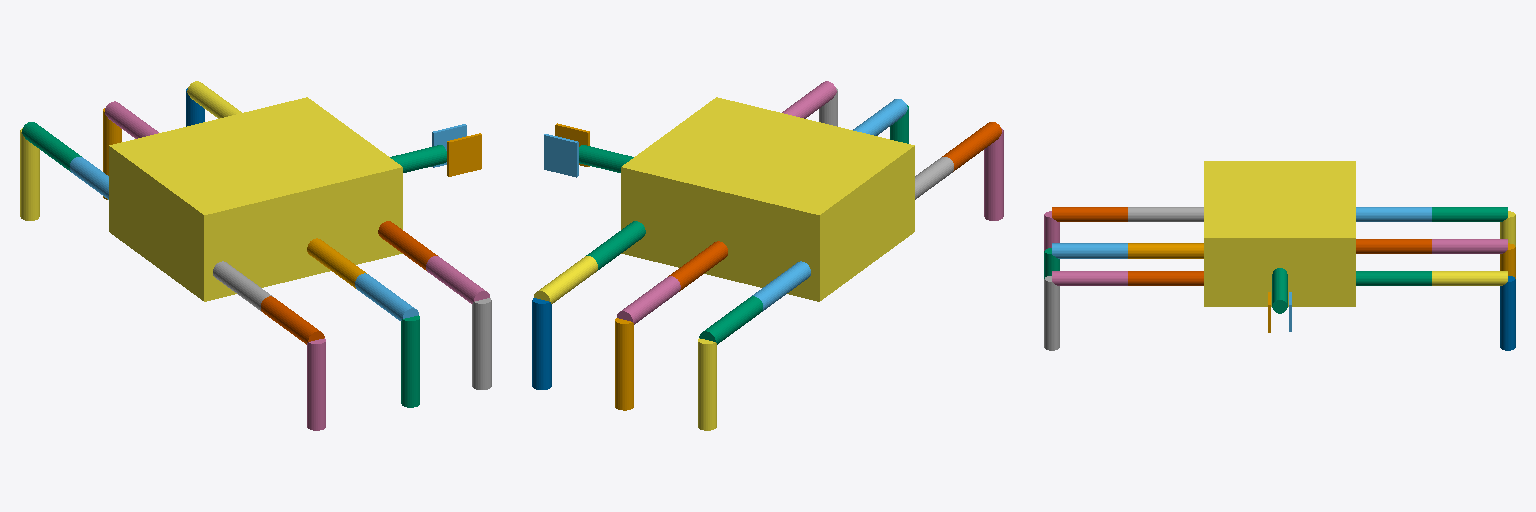
URDF robot description (SimpleWalker):
<?xml version="1.0"?>
<!-- created with Phobos 0.7 -->
  <robot name="SimpleWalker">

    <link name="Gripper1">
      <inertial>
        <origin xyz="0.09 0 0.02" rpy="0 0 0"/>
        <mass value="0.2"/>
        <inertia ixx="0.001" ixy="-0.001" ixz="0" iyy="0.001" iyz="0" izz="0.002"/>
      </inertial>
      <visual name="Cube.002">
        <origin xyz="0.09 0 0.02" rpy="-1.5708 0 0"/>
        <geometry>
          <box size="0.2 0.02 0.2"/>
        </geometry>
      </visual>
      <collision name="Cube.002">
        <origin xyz="0.09 0 0.02" rpy="-1.5708 0 0"/>
        <geometry>
          <box size="0.2 0.02 0.2"/>
        </geometry>
      </collision>
    </link>

    <link name="Gripper2">
      <inertial>
        <origin xyz="0.08 0 0.02" rpy="0 0 0"/>
        <mass value="0.2"/>
        <inertia ixx="0.001" ixy="-0.001" ixz="0" iyy="0.001" iyz="0" izz="0.002"/>
      </inertial>
      <visual name="Cube.001">
        <origin xyz="0.08 0 0.02" rpy="1.5708 0 0"/>
        <geometry>
          <box size="0.2 0.02 0.2"/>
        </geometry>
      </visual>
      <collision name="Cube.001">
        <origin xyz="0.08 0 0.02" rpy="1.5708 0 0"/>
        <geometry>
          <box size="0.2 0.02 0.2"/>
        </geometry>
      </collision>
    </link>

    <link name="GripperBase">
      <inertial>
        <origin xyz="0.28 0 0" rpy="0 0 0"/>
        <mass value="0.2"/>
        <inertia ixx="0.001" ixy="0" ixz="0" iyy="0.001" iyz="0" izz="0.001"/>
      </inertial>
      <visual name="Cylinder.023">
        <origin xyz="0.28 0 0" rpy="-1.5708 0 -1.5708"/>
        <geometry>
          <cylinder radius="0.05" length="0.5"/>
        </geometry>
      </visual>
      <collision name="Cylinder.023">
        <origin xyz="0.28 0 0" rpy="-1.5708 0 -1.5708"/>
        <geometry>
          <box size="0.1 0.1 0.5"/>
        </geometry>
      </collision>
    </link>

    <link name="Link_0">
      <inertial>
        <origin xyz="0 0 0" rpy="0 0 0"/>
        <mass value="1.0"/>
        <inertia ixx="0.10417" ixy="0" ixz="0" iyy="0.14083" iyz="0" izz="0.20333"/>
      </inertial>
      <visual name="Cube">
        <origin xyz="0 0 0" rpy="0 0 0"/>
        <geometry>
          <box size="1.2 1.0 0.5"/>
        </geometry>
      </visual>
      <collision name="Cube">
        <origin xyz="0 0 0" rpy="0 0 0"/>
        <geometry>
          <box size="1.2 1.0 0.5"/>
        </geometry>
      </collision>
    </link>

    <link name="Link_1">
    </link>

    <link name="Link_10">
      <inertial>
        <origin xyz="0 -0.25 0" rpy="0 0 0"/>
        <mass value="1.0"/>
        <inertia ixx="0.00125" ixy="0" ixz="0" iyy="0.02146" iyz="0" izz="0.02146"/>
      </inertial>
      <visual name="Cylinder.010">
        <origin xyz="0 -0.25 0" rpy="1.5708 -1.5708 0"/>
        <geometry>
          <cylinder radius="0.05" length="0.5"/>
        </geometry>
      </visual>
      <collision name="Cylinder">
        <origin xyz="0 -0.25 0" rpy="1.5708 -1.5708 0"/>
        <geometry>
          <cylinder radius="0.05" length="0.5"/>
        </geometry>
      </collision>
    </link>

    <link name="Link_11">
      <inertial>
        <origin xyz="0 0 0.25" rpy="0 0 0"/>
        <mass value="1.0"/>
        <inertia ixx="0.02146" ixy="0" ixz="0" iyy="0.00125" iyz="0" izz="0.02146"/>
      </inertial>
      <visual name="Cylinder.008">
        <origin xyz="0 0 0.25" rpy="0 0 0"/>
        <geometry>
          <cylinder radius="0.05" length="0.5"/>
        </geometry>
      </visual>
      <collision name="Cylinder.001">
        <origin xyz="0 0 0.25" rpy="0 0 0"/>
        <geometry>
          <cylinder radius="0.05" length="0.5"/>
        </geometry>
      </collision>
    </link>

    <link name="Link_12">
      <inertial>
        <origin xyz="0.25 0 0" rpy="0 0 0"/>
        <mass value="1.0"/>
        <inertia ixx="0.02146" ixy="0" ixz="0" iyy="0.02146" iyz="0" izz="0.00125"/>
      </inertial>
      <visual name="Cylinder.007">
        <origin xyz="0.25 0 0" rpy="0 -1.5708 0"/>
        <geometry>
          <cylinder radius="0.05" length="0.5"/>
        </geometry>
      </visual>
      <collision name="Cylinder.002">
        <origin xyz="0.25 0 0" rpy="0 -1.5708 0"/>
        <geometry>
          <cylinder radius="0.05" length="0.5"/>
        </geometry>
      </collision>
    </link>

    <link name="Link_13">
    </link>

    <link name="Link_14">
      <inertial>
        <origin xyz="0 -0.25 0" rpy="0 0 0"/>
        <mass value="1.0"/>
        <inertia ixx="0.00125" ixy="0" ixz="0" iyy="0.02146" iyz="0" izz="0.02146"/>
      </inertial>
      <visual name="Cylinder.014">
        <origin xyz="0 -0.25 0" rpy="1.5708 -1.5708 0"/>
        <geometry>
          <cylinder radius="0.05" length="0.5"/>
        </geometry>
      </visual>
      <collision name="Cylinder">
        <origin xyz="0 -0.25 0" rpy="1.5708 -1.5708 0"/>
        <geometry>
          <cylinder radius="0.05" length="0.5"/>
        </geometry>
      </collision>
    </link>

    <link name="Link_15">
      <inertial>
        <origin xyz="0 0 0.25" rpy="0 0 0"/>
        <mass value="1.0"/>
        <inertia ixx="0.02146" ixy="0" ixz="0" iyy="0.00125" iyz="0" izz="0.02146"/>
      </inertial>
      <visual name="Cylinder.012">
        <origin xyz="0 0 0.25" rpy="0 0 0"/>
        <geometry>
          <cylinder radius="0.05" length="0.5"/>
        </geometry>
      </visual>
      <collision name="Cylinder.001">
        <origin xyz="0 0 0.25" rpy="0 0 0"/>
        <geometry>
          <cylinder radius="0.05" length="0.5"/>
        </geometry>
      </collision>
    </link>

    <link name="Link_16">
      <inertial>
        <origin xyz="0.25 0 0" rpy="0 0 0"/>
        <mass value="1.0"/>
        <inertia ixx="0.02146" ixy="0" ixz="0" iyy="0.02146" iyz="0" izz="0.00125"/>
      </inertial>
      <visual name="Cylinder.011">
        <origin xyz="0.25 0 0" rpy="0 -1.5708 0"/>
        <geometry>
          <cylinder radius="0.05" length="0.5"/>
        </geometry>
      </visual>
      <collision name="Cylinder.002">
        <origin xyz="0.25 0 0" rpy="0 -1.5708 0"/>
        <geometry>
          <cylinder radius="0.05" length="0.5"/>
        </geometry>
      </collision>
    </link>

    <link name="Link_17">
    </link>

    <link name="Link_18">
      <inertial>
        <origin xyz="0 -0.25 0" rpy="0 0 0"/>
        <mass value="1.0"/>
        <inertia ixx="0.00125" ixy="0" ixz="0" iyy="0.02146" iyz="0" izz="0.02146"/>
      </inertial>
      <visual name="Cylinder.015">
        <origin xyz="0 -0.25 0" rpy="1.5708 -1.5708 0"/>
        <geometry>
          <cylinder radius="0.05" length="0.5"/>
        </geometry>
      </visual>
      <collision name="Cylinder">
        <origin xyz="0 -0.25 0" rpy="1.5708 -1.5708 0"/>
        <geometry>
          <cylinder radius="0.05" length="0.5"/>
        </geometry>
      </collision>
    </link>

    <link name="Link_19">
      <inertial>
        <origin xyz="0 0 0.25" rpy="0 0 0"/>
        <mass value="1.0"/>
        <inertia ixx="0.02146" ixy="0" ixz="0" iyy="0.00125" iyz="0" izz="0.02146"/>
      </inertial>
      <visual name="Cylinder.017">
        <origin xyz="0 0 0.25" rpy="0 0 0"/>
        <geometry>
          <cylinder radius="0.05" length="0.5"/>
        </geometry>
      </visual>
      <collision name="Cylinder.001">
        <origin xyz="0 0 0.25" rpy="0 0 0"/>
        <geometry>
          <cylinder radius="0.05" length="0.5"/>
        </geometry>
      </collision>
    </link>

    <link name="Link_2">
      <inertial>
        <origin xyz="0 -0.25 0" rpy="0 0 0"/>
        <mass value="1.0"/>
        <inertia ixx="0.00125" ixy="0" ixz="0" iyy="0.02146" iyz="0" izz="0.02146"/>
      </inertial>
      <visual name="Cylinder">
        <origin xyz="0 -0.25 0" rpy="1.5708 -1.5708 0"/>
        <geometry>
          <cylinder radius="0.05" length="0.5"/>
        </geometry>
      </visual>
      <collision name="Cylinder">
        <origin xyz="0 -0.25 0" rpy="1.5708 -1.5708 0"/>
        <geometry>
          <cylinder radius="0.05" length="0.5"/>
        </geometry>
      </collision>
    </link>

    <link name="Link_20">
      <inertial>
        <origin xyz="0.25 0 0" rpy="0 0 0"/>
        <mass value="1.0"/>
        <inertia ixx="0.02146" ixy="0" ixz="0" iyy="0.02146" iyz="0" izz="0.00125"/>
      </inertial>
      <visual name="Cylinder.018">
        <origin xyz="0.25 0 0" rpy="0 -1.5708 0"/>
        <geometry>
          <cylinder radius="0.05" length="0.5"/>
        </geometry>
      </visual>
      <collision name="Cylinder.002">
        <origin xyz="0.25 0 0" rpy="0 -1.5708 0"/>
        <geometry>
          <cylinder radius="0.05" length="0.5"/>
        </geometry>
      </collision>
    </link>

    <link name="Link_21">
    </link>

    <link name="Link_22">
      <inertial>
        <origin xyz="0 -0.25 0" rpy="0 0 0"/>
        <mass value="1.0"/>
        <inertia ixx="0.00125" ixy="0" ixz="0" iyy="0.02146" iyz="0" izz="0.02146"/>
      </inertial>
      <visual name="Cylinder.019">
        <origin xyz="0 -0.25 0" rpy="1.5708 -1.5708 0"/>
        <geometry>
          <cylinder radius="0.05" length="0.5"/>
        </geometry>
      </visual>
      <collision name="Cylinder">
        <origin xyz="0 -0.25 0" rpy="1.5708 -1.5708 0"/>
        <geometry>
          <cylinder radius="0.05" length="0.5"/>
        </geometry>
      </collision>
    </link>

    <link name="Link_23">
      <inertial>
        <origin xyz="0 0 0.25" rpy="0 0 0"/>
        <mass value="1.0"/>
        <inertia ixx="0.02146" ixy="0" ixz="0" iyy="0.00125" iyz="0" izz="0.02146"/>
      </inertial>
      <visual name="Cylinder.021">
        <origin xyz="0 0 0.25" rpy="0 0 0"/>
        <geometry>
          <cylinder radius="0.05" length="0.5"/>
        </geometry>
      </visual>
      <collision name="Cylinder.001">
        <origin xyz="0 0 0.25" rpy="0 0 0"/>
        <geometry>
          <cylinder radius="0.05" length="0.5"/>
        </geometry>
      </collision>
    </link>

    <link name="Link_24">
      <inertial>
        <origin xyz="0.25 0 0" rpy="0 0 0"/>
        <mass value="1.0"/>
        <inertia ixx="0.02146" ixy="0" ixz="0" iyy="0.02146" iyz="0" izz="0.00125"/>
      </inertial>
      <visual name="Cylinder.022">
        <origin xyz="0.25 0 0" rpy="0 -1.5708 0"/>
        <geometry>
          <cylinder radius="0.05" length="0.5"/>
        </geometry>
      </visual>
      <collision name="Cylinder.002">
        <origin xyz="0.25 0 0" rpy="0 -1.5708 0"/>
        <geometry>
          <cylinder radius="0.05" length="0.5"/>
        </geometry>
      </collision>
    </link>

    <link name="Link_3">
      <inertial>
        <origin xyz="0 0 0.25" rpy="0 0 0"/>
        <mass value="1.0"/>
        <inertia ixx="0.02146" ixy="0" ixz="0" iyy="0.00125" iyz="0" izz="0.02146"/>
      </inertial>
      <visual name="Cylinder.001">
        <origin xyz="0 0 0.25" rpy="0 0 0"/>
        <geometry>
          <cylinder radius="0.05" length="0.5"/>
        </geometry>
      </visual>
      <collision name="Cylinder.001">
        <origin xyz="0 0 0.25" rpy="0 0 0"/>
        <geometry>
          <cylinder radius="0.05" length="0.5"/>
        </geometry>
      </collision>
    </link>

    <link name="Link_4">
      <inertial>
        <origin xyz="0.25 0 0" rpy="0 0 0"/>
        <mass value="1.0"/>
        <inertia ixx="0.02146" ixy="0" ixz="0" iyy="0.02146" iyz="0" izz="0.00125"/>
      </inertial>
      <visual name="Cylinder.002">
        <origin xyz="0.25 0 0" rpy="0 -1.5708 0"/>
        <geometry>
          <cylinder radius="0.05" length="0.5"/>
        </geometry>
      </visual>
      <collision name="Cylinder.002">
        <origin xyz="0.25 0 0" rpy="0 -1.5708 0"/>
        <geometry>
          <cylinder radius="0.05" length="0.5"/>
        </geometry>
      </collision>
    </link>

    <link name="Link_5">
    </link>

    <link name="Link_6">
      <inertial>
        <origin xyz="0 -0.25 0" rpy="0 0 0"/>
        <mass value="1.0"/>
        <inertia ixx="0.00125" ixy="0" ixz="0" iyy="0.02146" iyz="0" izz="0.02146"/>
      </inertial>
      <visual name="Cylinder.006">
        <origin xyz="0 -0.25 0" rpy="1.5708 -1.5708 0"/>
        <geometry>
          <cylinder radius="0.05" length="0.5"/>
        </geometry>
      </visual>
      <collision name="Cylinder">
        <origin xyz="0 -0.25 0" rpy="1.5708 -1.5708 0"/>
        <geometry>
          <cylinder radius="0.05" length="0.5"/>
        </geometry>
      </collision>
    </link>

    <link name="Link_7">
      <inertial>
        <origin xyz="0 0 0.25" rpy="0 0 0"/>
        <mass value="1.0"/>
        <inertia ixx="0.02146" ixy="0" ixz="0" iyy="0.00125" iyz="0" izz="0.02146"/>
      </inertial>
      <visual name="Cylinder.004">
        <origin xyz="0 0 0.25" rpy="0 0 0"/>
        <geometry>
          <cylinder radius="0.05" length="0.5"/>
        </geometry>
      </visual>
      <collision name="Cylinder.001">
        <origin xyz="0 0 0.25" rpy="0 0 0"/>
        <geometry>
          <cylinder radius="0.05" length="0.5"/>
        </geometry>
      </collision>
    </link>

    <link name="Link_8">
      <inertial>
        <origin xyz="0.25 0 0" rpy="0 0 0"/>
        <mass value="1.0"/>
        <inertia ixx="0.02146" ixy="0" ixz="0" iyy="0.02146" iyz="0" izz="0.00125"/>
      </inertial>
      <visual name="Cylinder.003">
        <origin xyz="0.25 0 0" rpy="0 -1.5708 0"/>
        <geometry>
          <cylinder radius="0.05" length="0.5"/>
        </geometry>
      </visual>
      <collision name="Cylinder.002">
        <origin xyz="0.25 0 0" rpy="0 -1.5708 0"/>
        <geometry>
          <cylinder radius="0.05" length="0.5"/>
        </geometry>
      </collision>
    </link>

    <link name="Link_9">
    </link>

    <joint name="Gripper1" type="prismatic">
      <origin xyz="0.53 0 0.05" rpy="0 0 0"/>
      <parent link="GripperBase"/>
      <child link="Gripper1"/>
      <axis xyz="0 0 1.0"/>
      <limit lower="0" upper="0.4" effort="500.0" velocity="20.0"/>
    </joint>

    <joint name="Gripper2" type="prismatic">
      <origin xyz="0.53 0 -0.05" rpy="3.14159 0 0"/>
      <parent link="GripperBase"/>
      <child link="Gripper2"/>
      <axis xyz="0 0 1.0"/>
      <limit lower="0" upper="0.4" effort="500.0" velocity="20.0"/>
    </joint>

    <joint name="GripperBase" type="revolute">
      <origin xyz="0.6 0 0" rpy="1.5708 0 0"/>
      <parent link="Link_0"/>
      <child link="GripperBase"/>
      <axis xyz="0 0 1.0"/>
      <limit lower="-3.0" upper="3.0" effort="500.0" velocity="20.0"/>
    </joint>

    <joint name="Joint_1" type="revolute">
      <origin xyz="-0.5 -0.5 -0.09" rpy="0 0 0"/>
      <parent link="Link_0"/>
      <child link="Link_1"/>
      <axis xyz="0 0 1.0"/>
      <limit lower="-3.0" upper="3.0" effort="500.0" velocity="20.0"/>
    </joint>

    <joint name="Joint_10" type="revolute">
      <origin xyz="0 0 0" rpy="0 1.5708 0"/>
      <parent link="Link_9"/>
      <child link="Link_10"/>
      <axis xyz="0 0 1.0"/>
      <limit lower="-3.0" upper="3.0" effort="500.0" velocity="20.0"/>
    </joint>

    <joint name="Joint_11" type="revolute">
      <origin xyz="0 -0.5 0" rpy="1.5708 -1.5708 0"/>
      <parent link="Link_10"/>
      <child link="Link_11"/>
      <axis xyz="0 0 1.0"/>
      <limit lower="-3.0" upper="3.0" effort="500.0" velocity="20.0"/>
    </joint>

    <joint name="Joint_12" type="revolute">
      <origin xyz="0 0 0.5" rpy="-1.5708 0 -1.5708"/>
      <parent link="Link_11"/>
      <child link="Link_12"/>
      <axis xyz="0 0 1.0"/>
      <limit lower="-3.0" upper="3.0" effort="500.0" velocity="20.0"/>
    </joint>

    <joint name="Joint_13" type="revolute">
      <origin xyz="-0.5 0.5 -0.09" rpy="0 0 -3.14159"/>
      <parent link="Link_0"/>
      <child link="Link_13"/>
      <axis xyz="0 0 1.0"/>
      <limit lower="-3.0" upper="3.0" effort="500.0" velocity="20.0"/>
    </joint>

    <joint name="Joint_14" type="revolute">
      <origin xyz="0 0 0" rpy="0 1.5708 0"/>
      <parent link="Link_13"/>
      <child link="Link_14"/>
      <axis xyz="0 0 1.0"/>
      <limit lower="-3.0" upper="3.0" effort="500.0" velocity="20.0"/>
    </joint>

    <joint name="Joint_15" type="revolute">
      <origin xyz="0 -0.5 0" rpy="1.5708 -1.5708 0"/>
      <parent link="Link_14"/>
      <child link="Link_15"/>
      <axis xyz="0 0 1.0"/>
      <limit lower="-3.0" upper="3.0" effort="500.0" velocity="20.0"/>
    </joint>

    <joint name="Joint_16" type="revolute">
      <origin xyz="0 0 0.5" rpy="-1.5708 0 -1.5708"/>
      <parent link="Link_15"/>
      <child link="Link_16"/>
      <axis xyz="0 0 1.0"/>
      <limit lower="-3.0" upper="3.0" effort="500.0" velocity="20.0"/>
    </joint>

    <joint name="Joint_17" type="revolute">
      <origin xyz="0 0.5 -0.09" rpy="0 0 -3.14159"/>
      <parent link="Link_0"/>
      <child link="Link_17"/>
      <axis xyz="0 0 1.0"/>
      <limit lower="-3.0" upper="3.0" effort="500.0" velocity="20.0"/>
    </joint>

    <joint name="Joint_18" type="revolute">
      <origin xyz="0 0 0" rpy="0 1.5708 0"/>
      <parent link="Link_17"/>
      <child link="Link_18"/>
      <axis xyz="0 0 1.0"/>
      <limit lower="-3.0" upper="3.0" effort="500.0" velocity="20.0"/>
    </joint>

    <joint name="Joint_19" type="revolute">
      <origin xyz="0 -0.5 0" rpy="1.5708 -1.5708 0"/>
      <parent link="Link_18"/>
      <child link="Link_19"/>
      <axis xyz="0 0 1.0"/>
      <limit lower="-3.0" upper="3.0" effort="500.0" velocity="20.0"/>
    </joint>

    <joint name="Joint_2" type="revolute">
      <origin xyz="0 0 0" rpy="0 1.5708 0"/>
      <parent link="Link_1"/>
      <child link="Link_2"/>
      <axis xyz="0 0 1.0"/>
      <limit lower="-3.0" upper="3.0" effort="500.0" velocity="20.0"/>
    </joint>

    <joint name="Joint_20" type="revolute">
      <origin xyz="0 0 0.5" rpy="-1.5708 0 -1.5708"/>
      <parent link="Link_19"/>
      <child link="Link_20"/>
      <axis xyz="0 0 1.0"/>
      <limit lower="-3.0" upper="3.0" effort="500.0" velocity="20.0"/>
    </joint>

    <joint name="Joint_21" type="revolute">
      <origin xyz="0.5 0.5 -0.09" rpy="0 0 -3.14159"/>
      <parent link="Link_0"/>
      <child link="Link_21"/>
      <axis xyz="0 0 1.0"/>
      <limit lower="-3.0" upper="3.0" effort="500.0" velocity="20.0"/>
    </joint>

    <joint name="Joint_22" type="revolute">
      <origin xyz="0 0 0" rpy="0 1.5708 0"/>
      <parent link="Link_21"/>
      <child link="Link_22"/>
      <axis xyz="0 0 1.0"/>
      <limit lower="-3.0" upper="3.0" effort="500.0" velocity="20.0"/>
    </joint>

    <joint name="Joint_23" type="revolute">
      <origin xyz="0 -0.5 0" rpy="1.5708 -1.5708 0"/>
      <parent link="Link_22"/>
      <child link="Link_23"/>
      <axis xyz="0 0 1.0"/>
      <limit lower="-3.0" upper="3.0" effort="500.0" velocity="20.0"/>
    </joint>

    <joint name="Joint_24" type="revolute">
      <origin xyz="0 0 0.5" rpy="-1.5708 0 -1.5708"/>
      <parent link="Link_23"/>
      <child link="Link_24"/>
      <axis xyz="0 0 1.0"/>
      <limit lower="-3.0" upper="3.0" effort="500.0" velocity="20.0"/>
    </joint>

    <joint name="Joint_3" type="revolute">
      <origin xyz="0 -0.5 0" rpy="1.5708 -1.5708 0"/>
      <parent link="Link_2"/>
      <child link="Link_3"/>
      <axis xyz="0 0 1.0"/>
      <limit lower="-3.0" upper="3.0" effort="500.0" velocity="20.0"/>
    </joint>

    <joint name="Joint_4" type="revolute">
      <origin xyz="0 0 0.5" rpy="-1.5708 0 -1.5708"/>
      <parent link="Link_3"/>
      <child link="Link_4"/>
      <axis xyz="0 0 1.0"/>
      <limit lower="-3.0" upper="3.0" effort="500.0" velocity="20.0"/>
    </joint>

    <joint name="Joint_5" type="revolute">
      <origin xyz="0.07 -0.5 -0.09" rpy="0 0 0"/>
      <parent link="Link_0"/>
      <child link="Link_5"/>
      <axis xyz="0 0 1.0"/>
      <limit lower="-3.0" upper="3.0" effort="500.0" velocity="20.0"/>
    </joint>

    <joint name="Joint_6" type="revolute">
      <origin xyz="0 0 0" rpy="0 1.5708 0"/>
      <parent link="Link_5"/>
      <child link="Link_6"/>
      <axis xyz="0 0 1.0"/>
      <limit lower="-3.0" upper="3.0" effort="500.0" velocity="20.0"/>
    </joint>

    <joint name="Joint_7" type="revolute">
      <origin xyz="0 -0.5 0" rpy="1.5708 -1.5708 0"/>
      <parent link="Link_6"/>
      <child link="Link_7"/>
      <axis xyz="0 0 1.0"/>
      <limit lower="-3.0" upper="3.0" effort="500.0" velocity="20.0"/>
    </joint>

    <joint name="Joint_8" type="revolute">
      <origin xyz="0 0 0.5" rpy="-1.5708 0 -1.5708"/>
      <parent link="Link_7"/>
      <child link="Link_8"/>
      <axis xyz="0 0 1.0"/>
      <limit lower="-3.0" upper="3.0" effort="500.0" velocity="20.0"/>
    </joint>

    <joint name="Joint_9" type="revolute">
      <origin xyz="0.5 -0.5 -0.09" rpy="0 0 0"/>
      <parent link="Link_0"/>
      <child link="Link_9"/>
      <axis xyz="0 0 1.0"/>
      <limit lower="-3.0" upper="3.0" effort="500.0" velocity="20.0"/>
    </joint>

  </robot>

--- Facts derived from the render (not from the file) ---
Views: 3 orthographic renders of the robot side by side, from view 1: azimuth 30°, elevation 25°; view 2: azimuth 150°, elevation 25°; view 3: azimuth 270°, elevation 25°.
Model SimpleWalker with 28 links and 27 joints (25 revolute, 2 prismatic), rooted at Link_0, posed every joint at zero.
Links seen in each view (by area): view 1: Link_0, Link_12, Link_4, Link_8, Link_16, Gripper1, Link_11, Link_7, Link_3, Link_2, Link_6, Link_10 (+7 smaller); view 2: Link_0, Link_24, Link_20, Link_16, Link_4, Gripper2, Link_23, Link_19, Link_15, Link_14, Link_18, Link_22 (+5 smaller); view 3: Link_0, Link_6, Link_7, Link_10, Link_14, Link_18, Link_2, Link_22, Link_11, Link_19, Link_23, Link_15 (+4 smaller).
Link boxes in pixels (x1=…): Link_0: x1=109, y1=97, x2=402, y2=301; Link_12: x1=472, y1=298, x2=491, y2=389; Link_4: x1=307, y1=338, x2=325, y2=430; Link_8: x1=401, y1=315, x2=419, y2=407; Link_16: x1=20, y1=128, x2=39, y2=220; Gripper1: x1=447, y1=133, x2=481, y2=176; Link_11: x1=426, y1=256, x2=489, y2=303; Link_7: x1=355, y1=273, x2=418, y2=320; Link_3: x1=261, y1=296, x2=324, y2=344; Link_2: x1=213, y1=261, x2=272, y2=311; Link_6: x1=307, y1=238, x2=366, y2=288; Link_10: x1=378, y1=221, x2=437, y2=270; Link_0: x1=621, y1=97, x2=914, y2=301; Link_24: x1=532, y1=298, x2=551, y2=389; Link_20: x1=615, y1=318, x2=633, y2=410; Link_16: x1=698, y1=338, x2=716, y2=430; Link_4: x1=984, y1=128, x2=1003, y2=220; Gripper2: x1=544, y1=134, x2=578, y2=177; Link_23: x1=534, y1=256, x2=597, y2=303; Link_19: x1=617, y1=276, x2=680, y2=324; Link_15: x1=699, y1=296, x2=762, y2=344; Link_14: x1=751, y1=261, x2=810, y2=311; Link_18: x1=668, y1=241, x2=727, y2=291; Link_22: x1=586, y1=221, x2=645, y2=270; Link_0: x1=1204, y1=161, x2=1355, y2=306; Link_6: x1=1128, y1=243, x2=1203, y2=258; Link_7: x1=1052, y1=243, x2=1127, y2=258; Link_10: x1=1128, y1=271, x2=1203, y2=285; Link_14: x1=1356, y1=207, x2=1431, y2=221; Link_18: x1=1356, y1=239, x2=1431, y2=253; Link_2: x1=1128, y1=207, x2=1203, y2=221; Link_22: x1=1356, y1=271, x2=1431, y2=285; Link_11: x1=1052, y1=271, x2=1127, y2=285; Link_19: x1=1432, y1=239, x2=1507, y2=253; Link_23: x1=1432, y1=271, x2=1507, y2=285; Link_15: x1=1432, y1=207, x2=1507, y2=221.
Bounding box of the posed robot: 1.92 × 3.1 × 0.84 m (x, y, z).
Geometry: primitives only (box / cylinder / sphere), no mesh files.